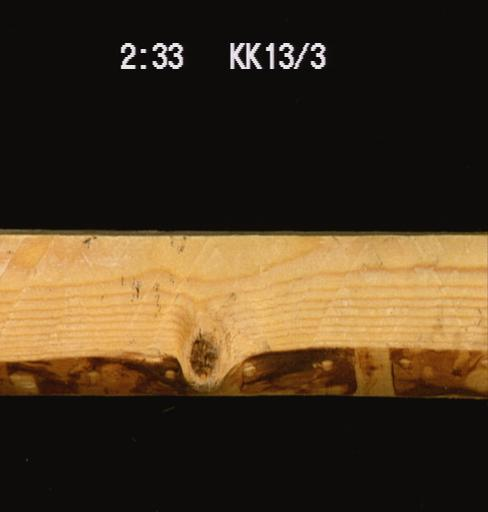sound_knot: (186, 333, 225, 376)
wave: (242, 342, 485, 396), (0, 342, 198, 399)
